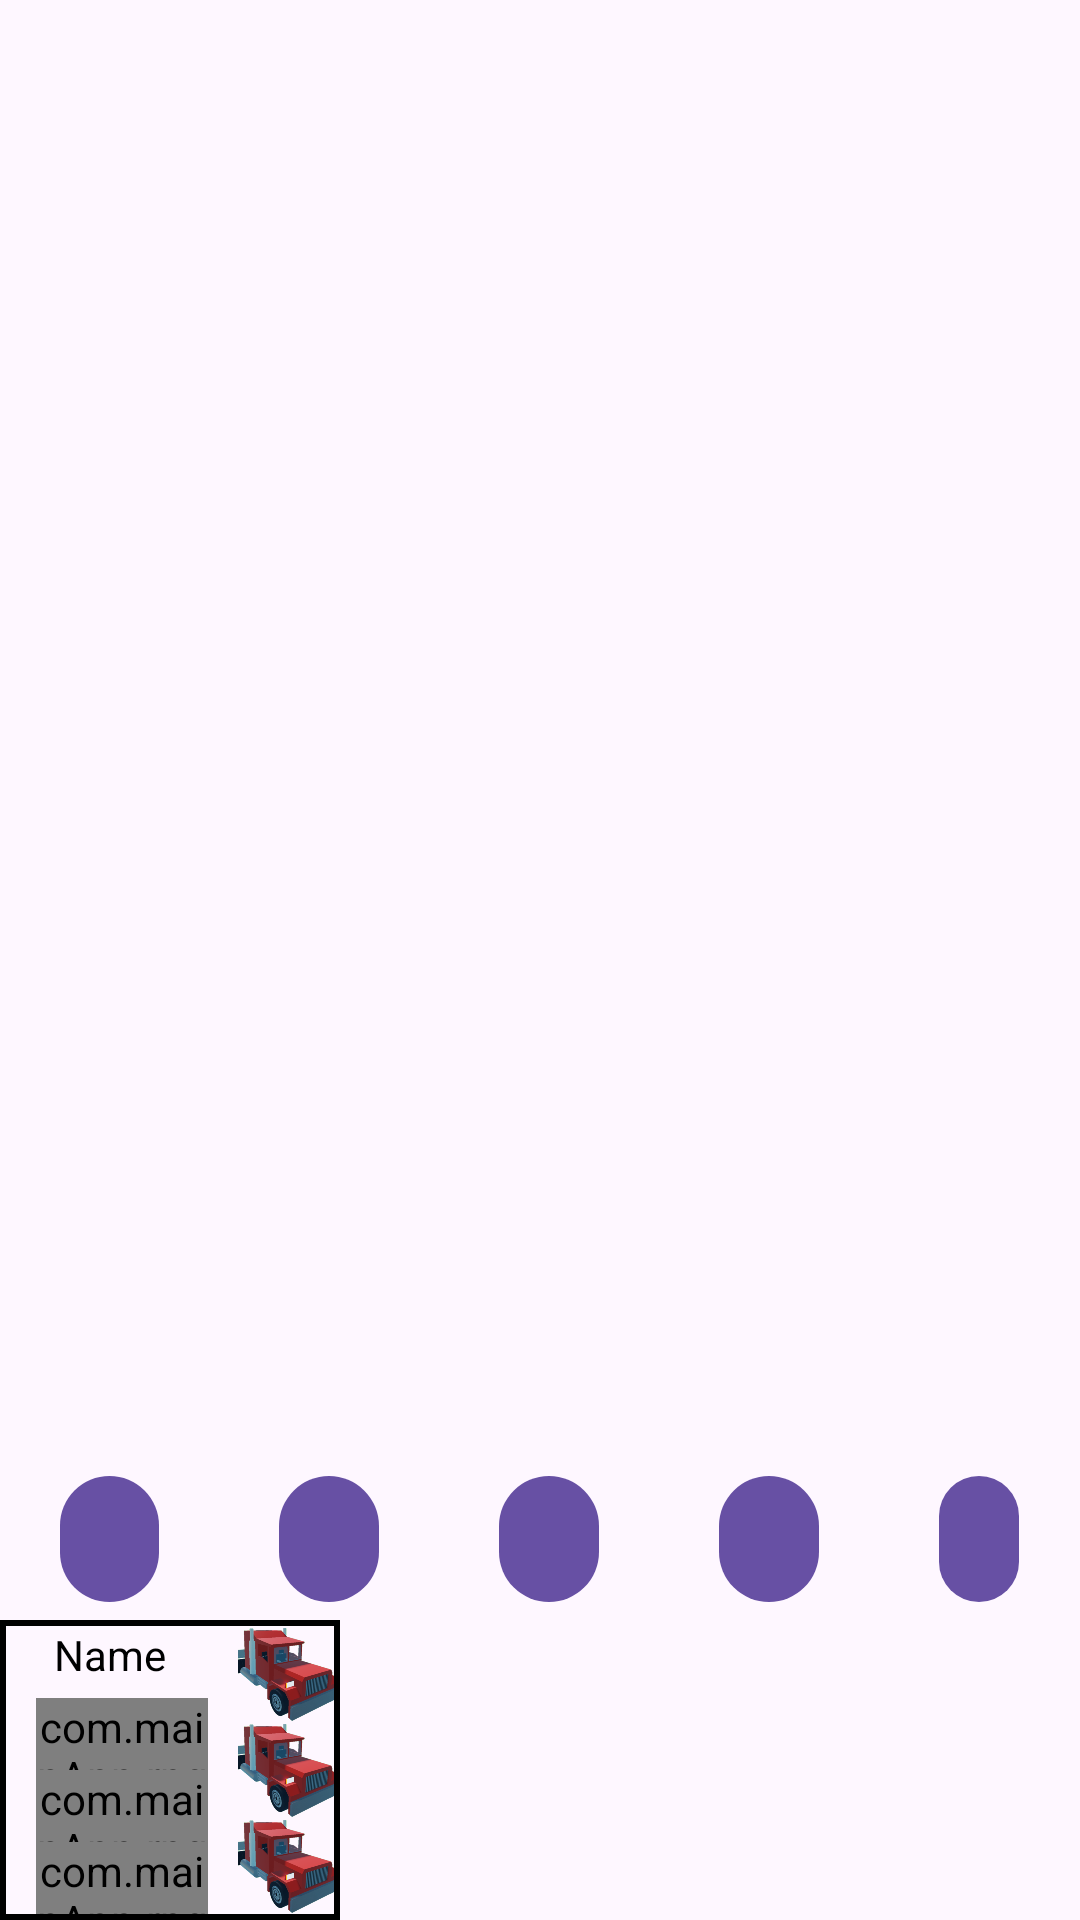

Where to tap for icons on this 1080px×1920px app screen, as (x=x, y=y):
truck: (x=286, y=1674), (x=286, y=1770), (x=286, y=1866)
